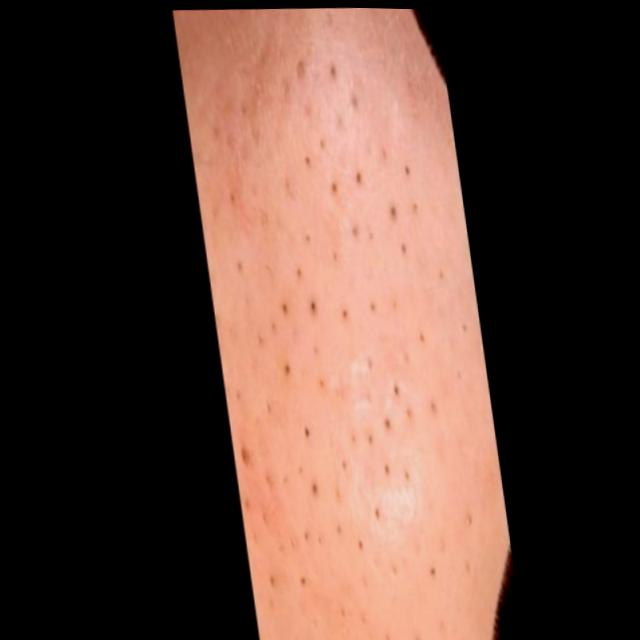blackhead: (231, 6, 452, 632)
